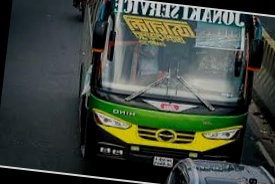bus: (68, 0, 268, 184)
